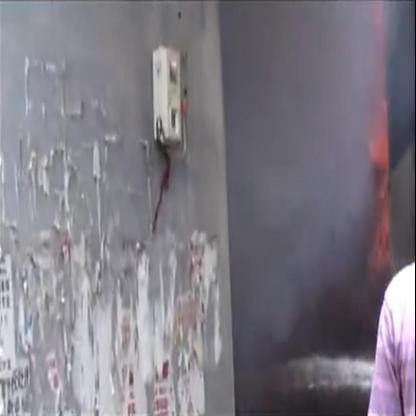smoke: (224, 2, 382, 338)
